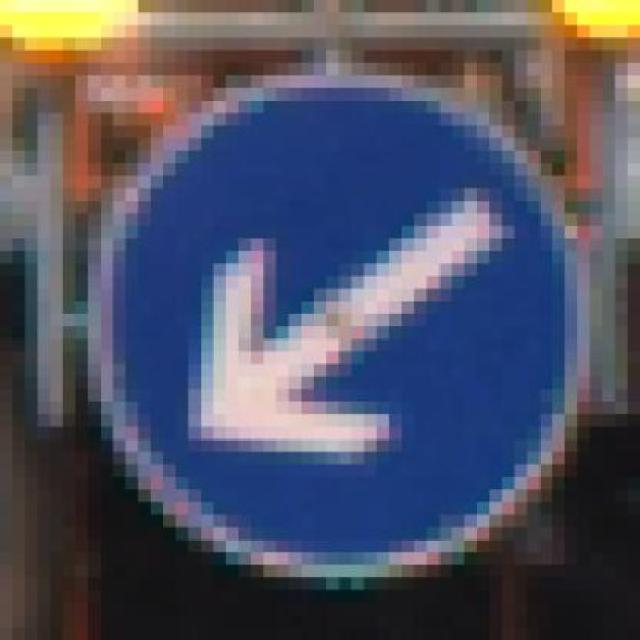Keep-Left: (50, 62, 615, 590)
